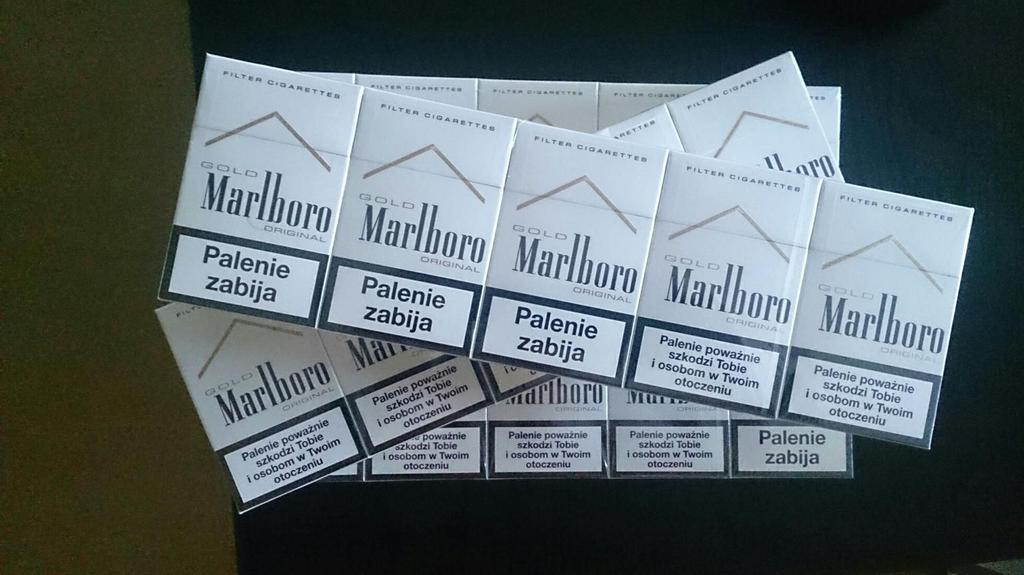marlboro_gold: (188, 71, 336, 295), (653, 176, 796, 395), (341, 109, 486, 324), (805, 202, 950, 414), (508, 143, 638, 359), (198, 319, 338, 476), (691, 88, 831, 178)
